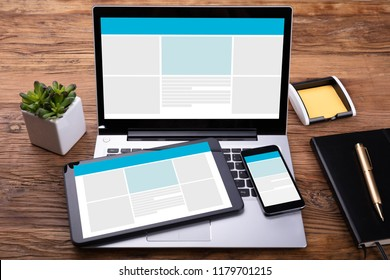Cell Phone: (56, 138, 245, 247), (236, 145, 312, 217)
